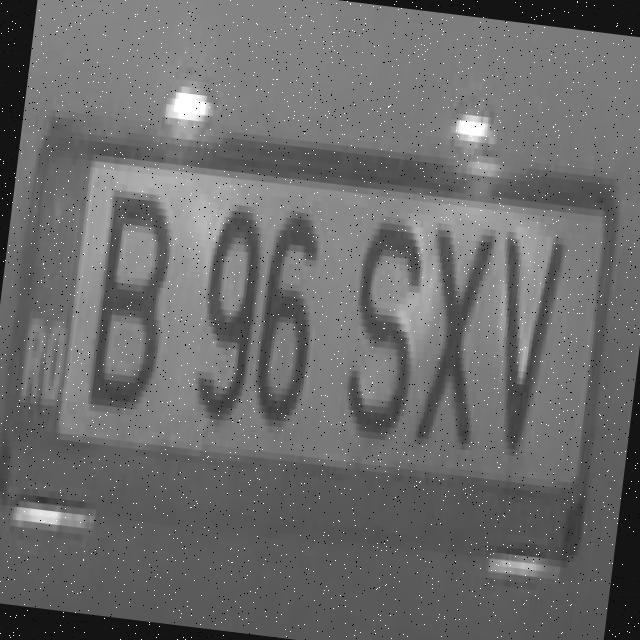EU: (0, 124, 622, 574)
Romanie: (11, 137, 97, 440)
